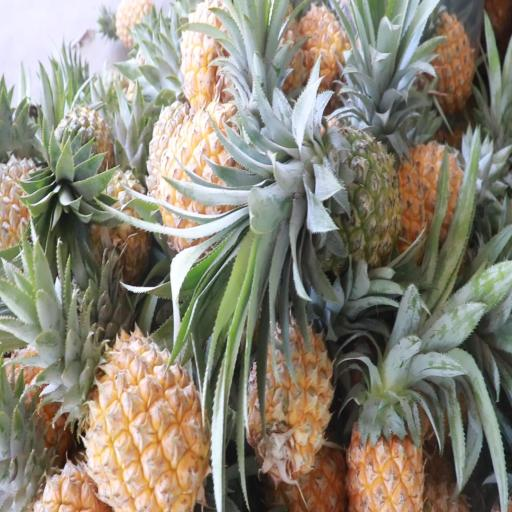Pineapple - v8 v1: (62, 296, 214, 511), (154, 94, 296, 253), (346, 295, 436, 512), (246, 310, 332, 484)
